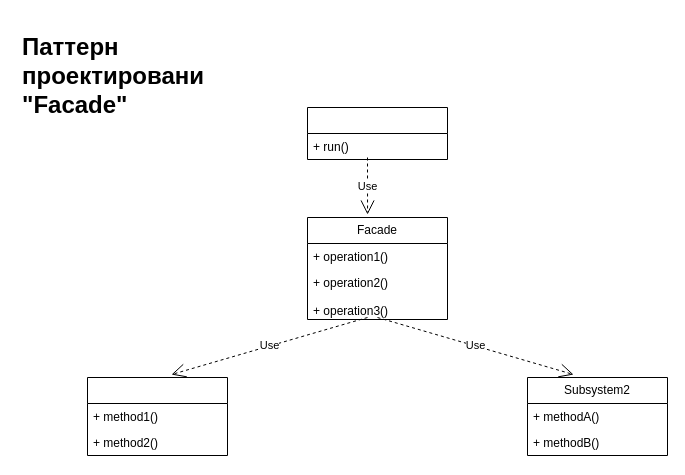
Image size: 685x475. Some labels were removed from this diagram. Each missing label, with the box of its shape:
Client: (306, 106, 448, 160)
Subsystem1: (86, 376, 228, 456)
